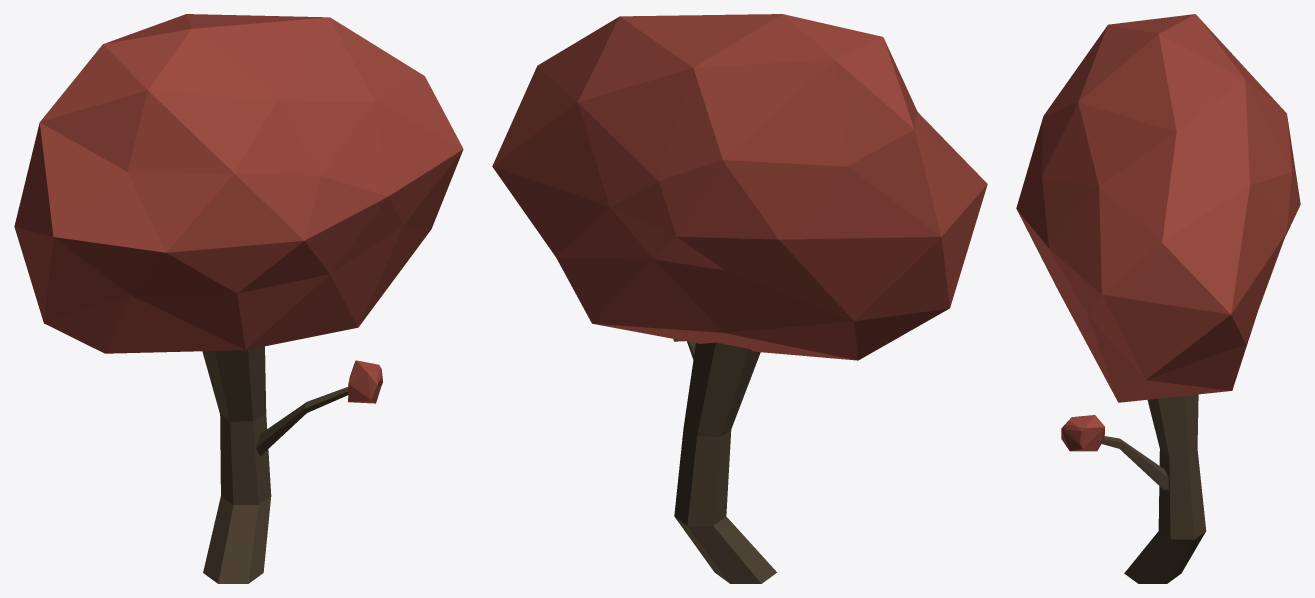
Rendered from Tree_5_Red.fbx.
3 views of the same model, side by side, from view 1: azimuth 30°, elevation 25°; view 2: azimuth 150°, elevation 25°; view 3: azimuth 270°, elevation 25° (orthographic). The views are drawn at different scales.
Parts seen in each view (by area): view 1: Tree_5_Red_Part_2, Tree_5_Red_Part_1, Tree_5_Red_Part_3; view 2: Tree_5_Red_Part_2, Tree_5_Red_Part_1; view 3: Tree_5_Red_Part_2, Tree_5_Red_Part_1, Tree_5_Red_Part_3.
Part boxes in pixels (x1,y1,x2,y2): Tree_5_Red_Part_2: (14,14,463,353); Tree_5_Red_Part_1: (202,346,348,583); Tree_5_Red_Part_3: (348,360,382,403); Tree_5_Red_Part_2: (492,14,987,360); Tree_5_Red_Part_1: (674,341,776,583); Tree_5_Red_Part_2: (1016,14,1300,402); Tree_5_Red_Part_1: (1101,394,1206,583); Tree_5_Red_Part_3: (1061,415,1104,451).
Bounding box in the file's own units: 546 × 701 × 346.
